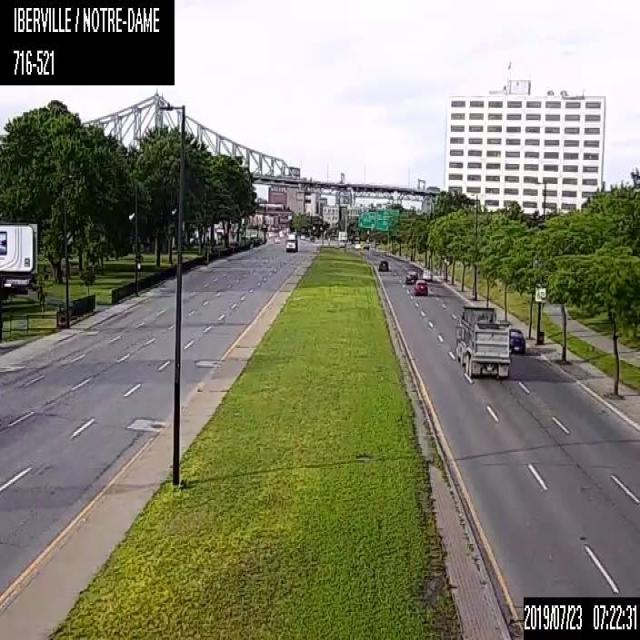vehicle: (454, 304, 508, 377), (508, 327, 526, 352), (285, 232, 297, 252), (413, 279, 427, 296), (405, 270, 417, 283), (422, 268, 432, 280), (378, 258, 388, 270), (274, 236, 281, 243)
